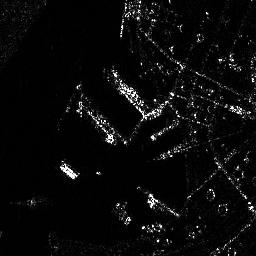ship: (72, 98, 117, 146), (115, 74, 147, 108), (57, 162, 79, 180)
